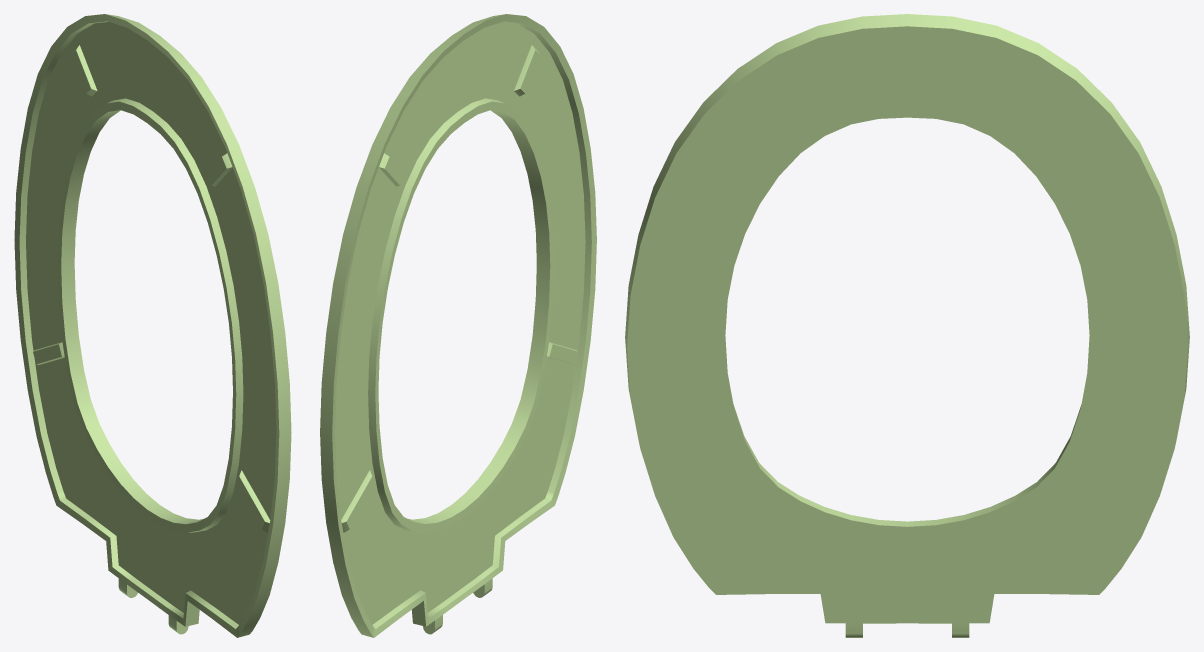
Rendered from Tapa 2.fbx.
3 views of the same model, side by side, from view 1: azimuth 30°, elevation 25°; view 2: azimuth 150°, elevation 25°; view 3: azimuth 270°, elevation 25° (orthographic). The views are drawn at different scales.
Visible parts, largest first — view 1: Tapa_2; view 2: Tapa_2; view 3: Tapa_2.
Boxes of the visible parts, bbox=[...] form: Tapa_2: bbox=[14, 14, 291, 637]; Tapa_2: bbox=[320, 14, 596, 637]; Tapa_2: bbox=[625, 14, 1189, 637].
Bounding box in the file's own units: 0.0112 × 0.4728 × 0.3905.
